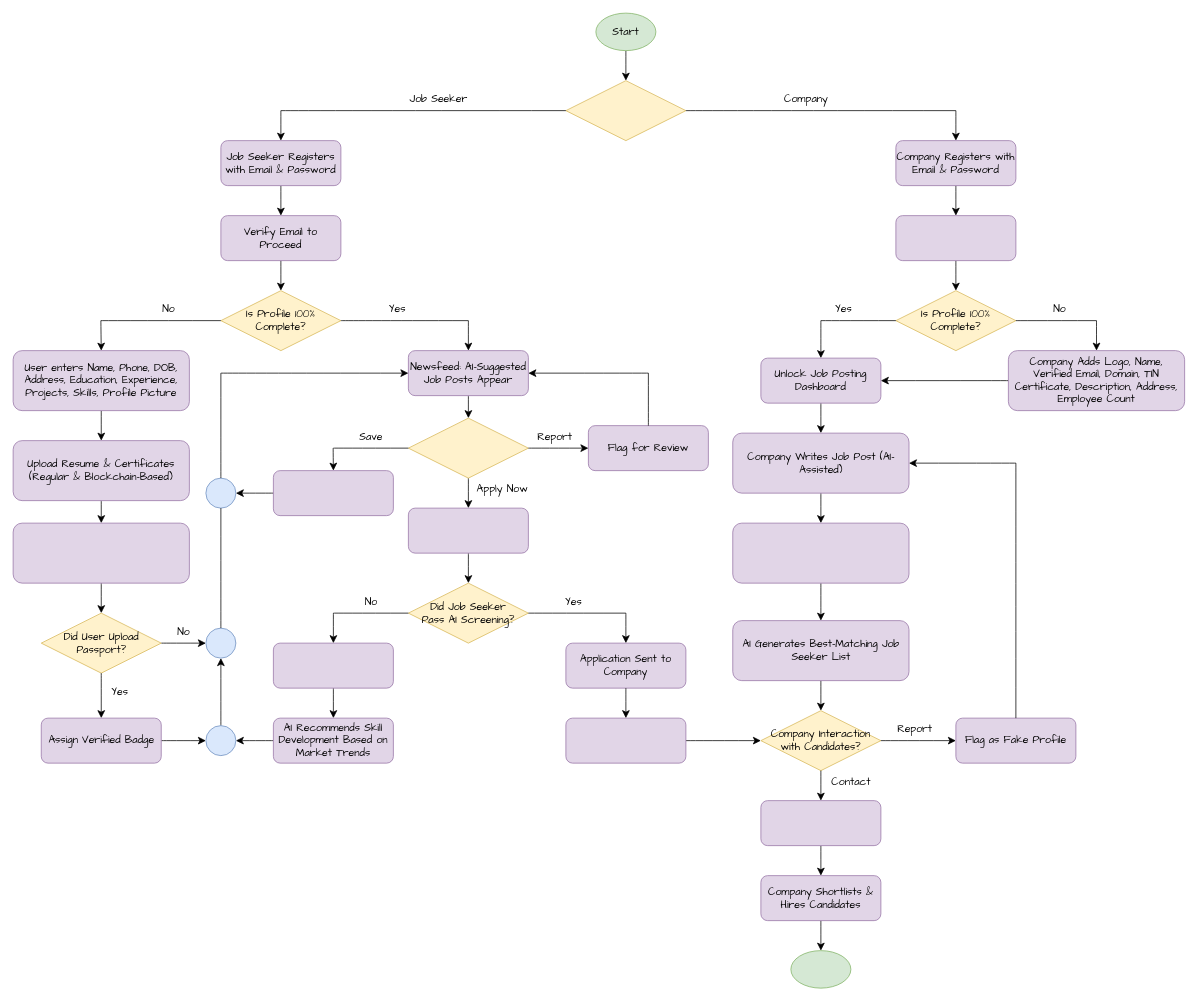
This 1198x1001 diagram has some shape labels left out. Each missing label, with the centre of its shape:
"AI Conducts Interview (Speech, Confidence, Sentiment Analysis)" belongs at (468,530).
"AI Optimizes & Generates Smart CV" belongs at (100,552).
"AI Suggests Learning Paths & Resume Improvements" belongs at (333,665).
"Company Reviews AI-Screened Candidates" belongs at (625,740).
"Company Verifies Email to Proceed" belongs at (955,238).
"End" belongs at (820,969).
"Job Post Published on Platform" belongs at (820,552).
"Move to Saved Jobs" belongs at (333,493).
"One-to-One Messaging" belongs at (820,823).
"User chooses role" belongs at (625,110).
"User Interaction with Job Post?" belongs at (468,447).
